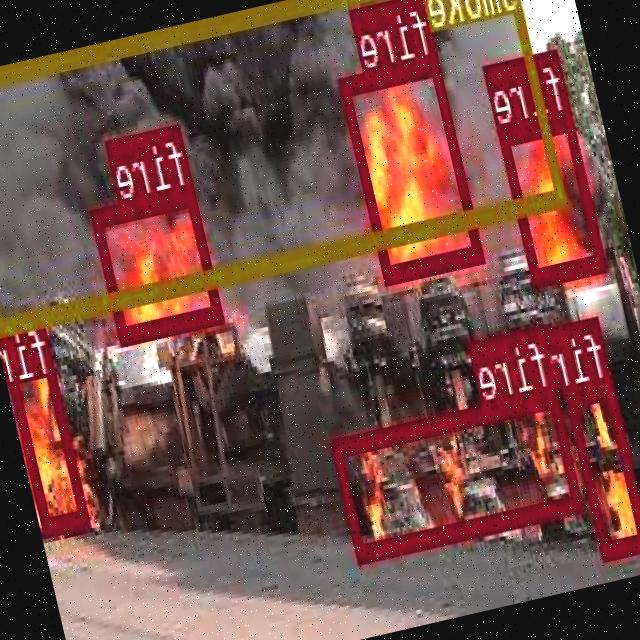fire: (331, 384, 584, 559), (340, 53, 485, 280), (92, 183, 225, 339), (0, 307, 91, 532), (499, 108, 608, 282), (566, 374, 640, 555)
smoke: (0, 0, 568, 330)
